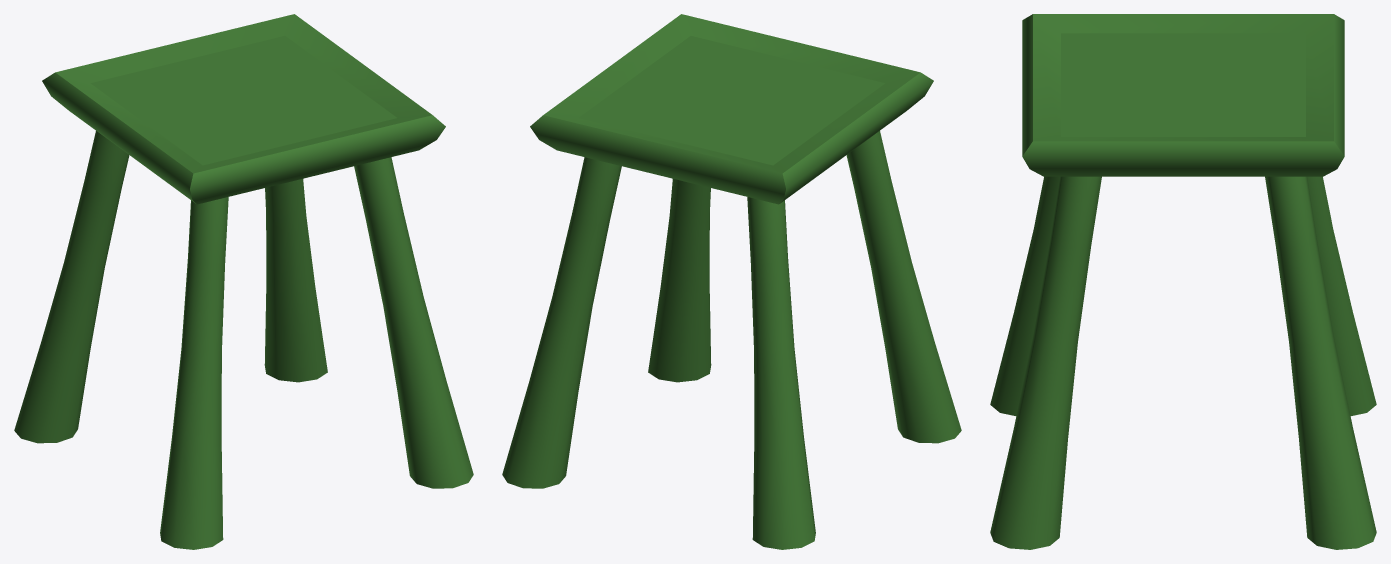
File: Stool.fbx
The picture shows the model from 3 angles, left to right: view 1: azimuth 30°, elevation 25°; view 2: azimuth 150°, elevation 25°; view 3: azimuth 270°, elevation 25°; orthographic projection. The views are drawn at different scales.
Parts seen in each view (by area): view 1: StoolBase, StoolLeg1, StoolLeg4, StoolLeg2, StoolLeg3; view 2: StoolBase, StoolLeg2, StoolLeg3, StoolLeg1, StoolLeg4; view 3: StoolBase, StoolLeg4, StoolLeg3, StoolLeg2, StoolLeg1.
Boxes of the visible parts, box(x1,y1,x2,y2) form: StoolBase: box(42, 14, 445, 204); StoolLeg1: box(160, 197, 228, 549); StoolLeg4: box(354, 157, 473, 488); StoolLeg2: box(14, 131, 129, 443); StoolLeg3: box(264, 179, 327, 382); StoolBase: box(530, 14, 933, 204); StoolLeg2: box(747, 197, 815, 549); StoolLeg3: box(502, 157, 621, 488); StoolLeg1: box(846, 131, 961, 443); StoolLeg4: box(648, 179, 711, 382); StoolBase: box(1022, 14, 1344, 176); StoolLeg4: box(990, 176, 1101, 549); StoolLeg3: box(1265, 176, 1376, 549); StoolLeg2: box(1307, 176, 1376, 415); StoolLeg1: box(990, 176, 1059, 415).
Bounding box in the file's own units: 1.21 × 1.36 × 1.22.
